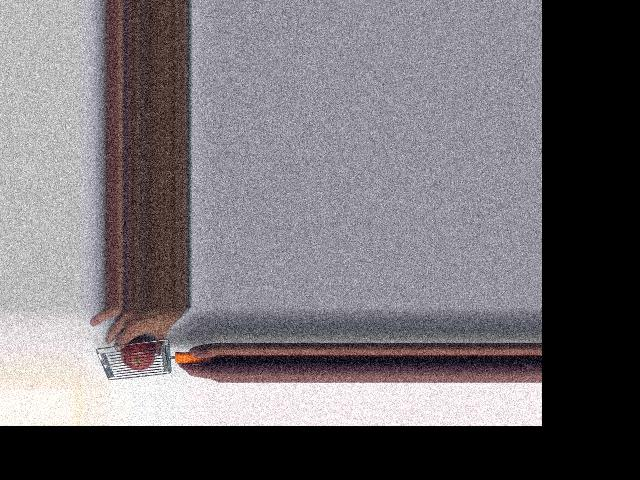tomato: (121, 337, 156, 369)
